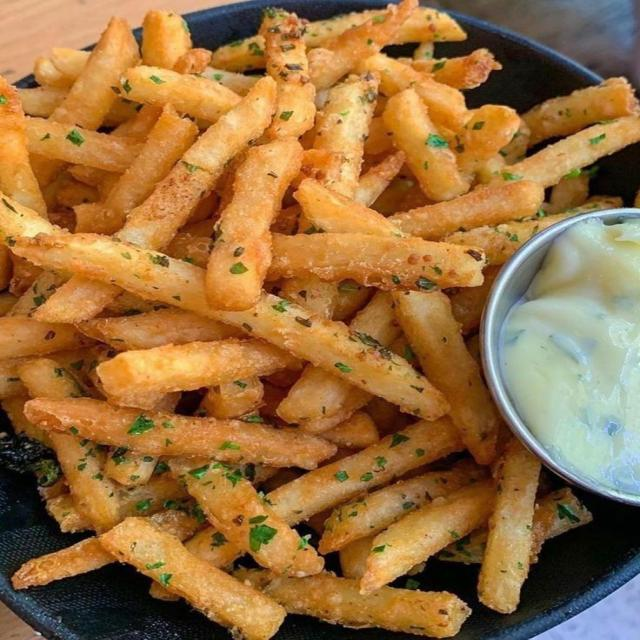potato fries: (0, 0, 639, 639), (100, 518, 285, 639), (26, 399, 335, 468), (394, 292, 499, 464), (170, 460, 323, 577), (207, 138, 302, 310), (234, 571, 470, 637), (479, 438, 540, 613), (308, 0, 418, 89), (383, 89, 469, 201), (390, 181, 544, 239), (523, 78, 637, 144), (261, 10, 315, 138), (120, 66, 240, 122), (142, 10, 191, 69)
